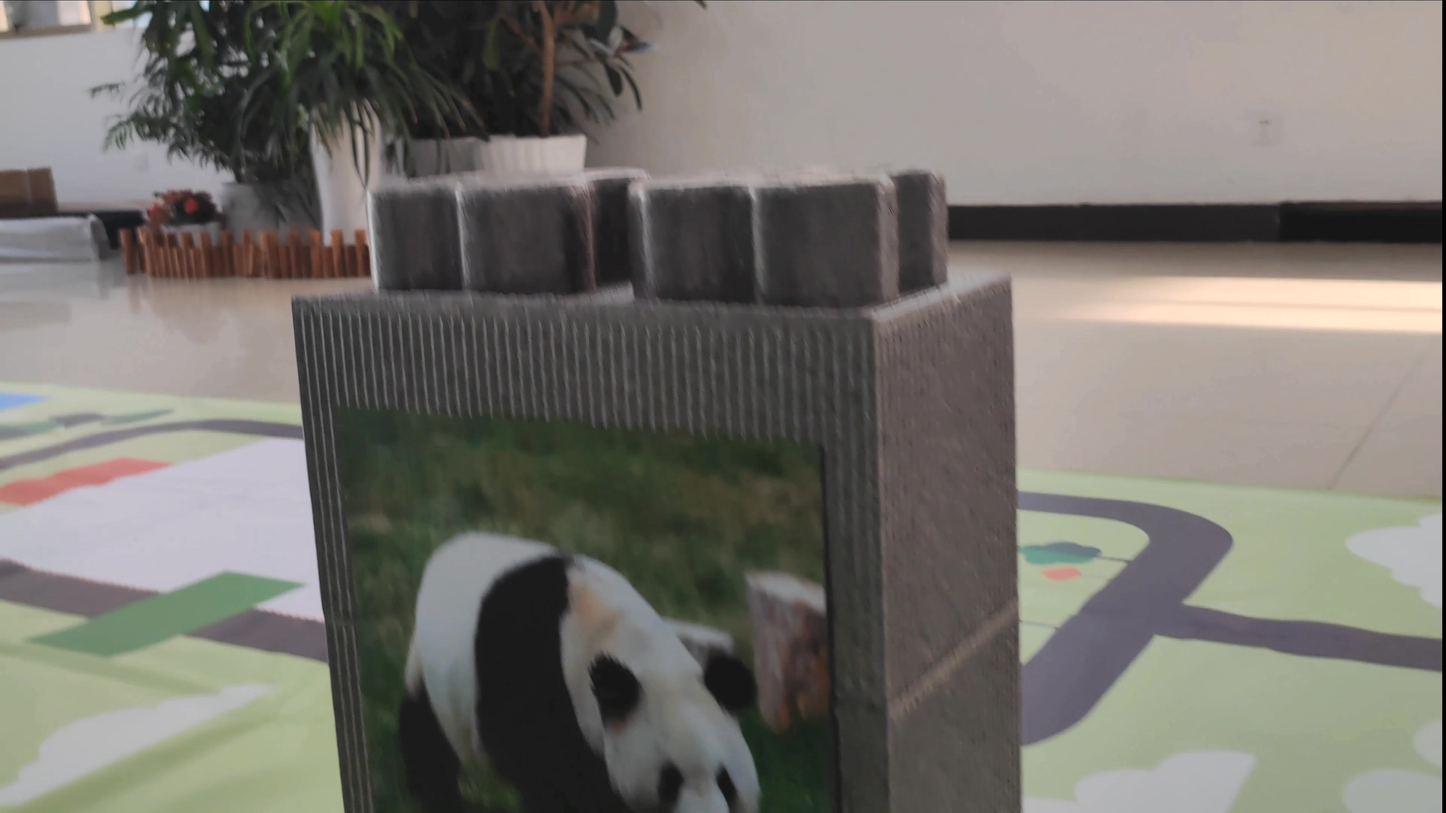panda: (374, 497, 766, 811)
